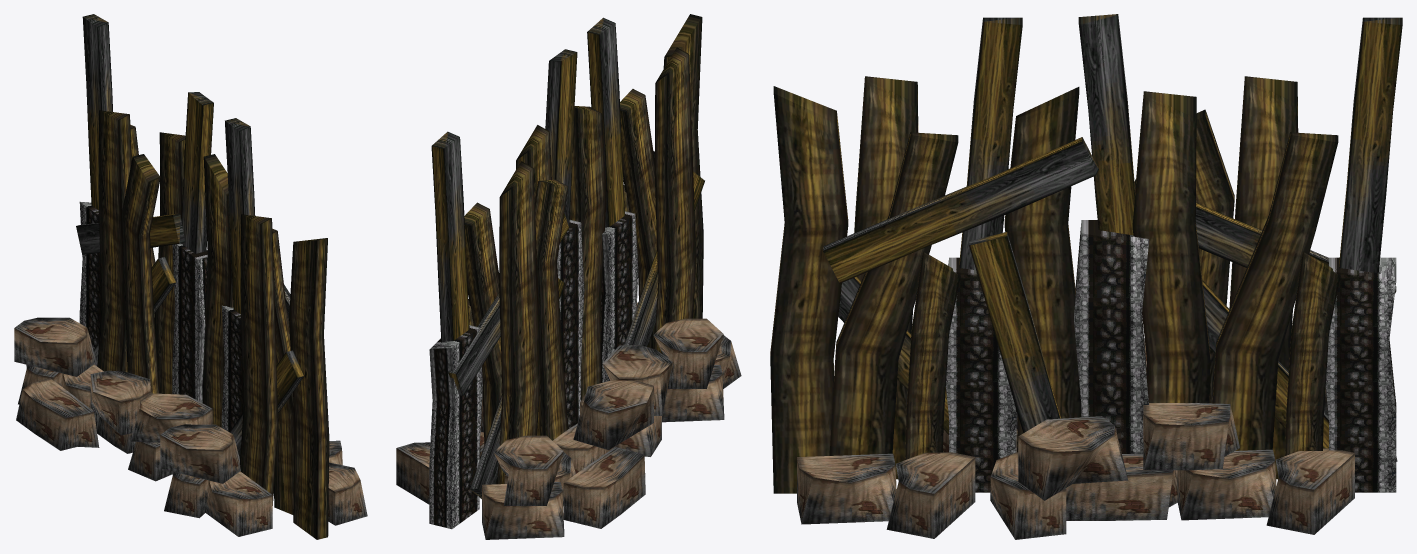
The model's file is CB_WOOD_BARACADE01.obj.
3 renders of one model, left to right at view 1: azimuth 30°, elevation 25°; view 2: azimuth 150°, elevation 25°; view 3: azimuth 270°, elevation 25°, orthographic. The views are drawn at different scales.
Visible parts, largest first — view 1: wood_baracade01; view 2: wood_baracade01; view 3: wood_baracade01.
Boxes of the visible parts, left/top/right/bottom form: wood_baracade01: left=14, top=14, right=367, bottom=539; wood_baracade01: left=396, top=14, right=741, bottom=539; wood_baracade01: left=770, top=14, right=1402, bottom=539.
Bounding box in the file's own units: 222 × 387 × 456.
